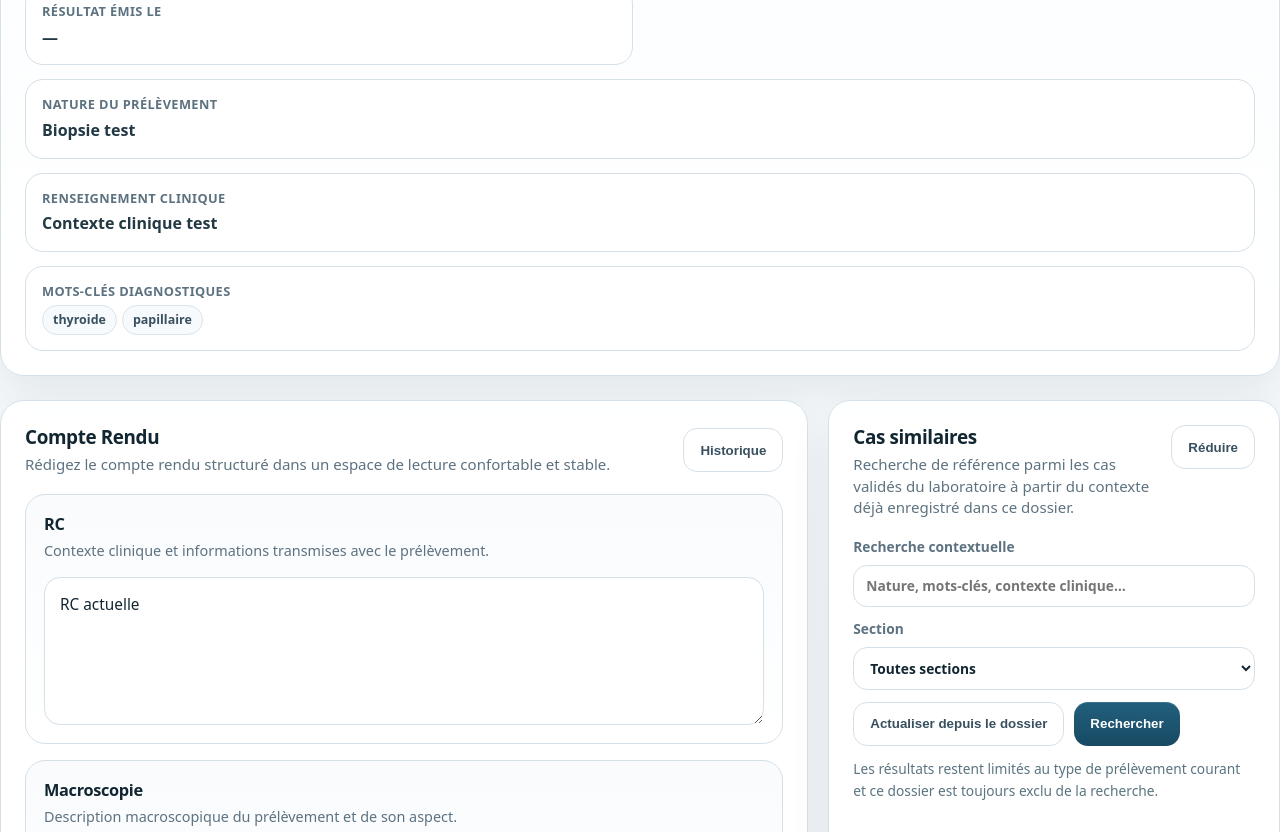
Test: ExamDetailPage report history › restores selected revision into live report editor and shows success feedback
(page scrolled)
Click the button "Historique".
click(733, 450)  # box [683,428,783,472]
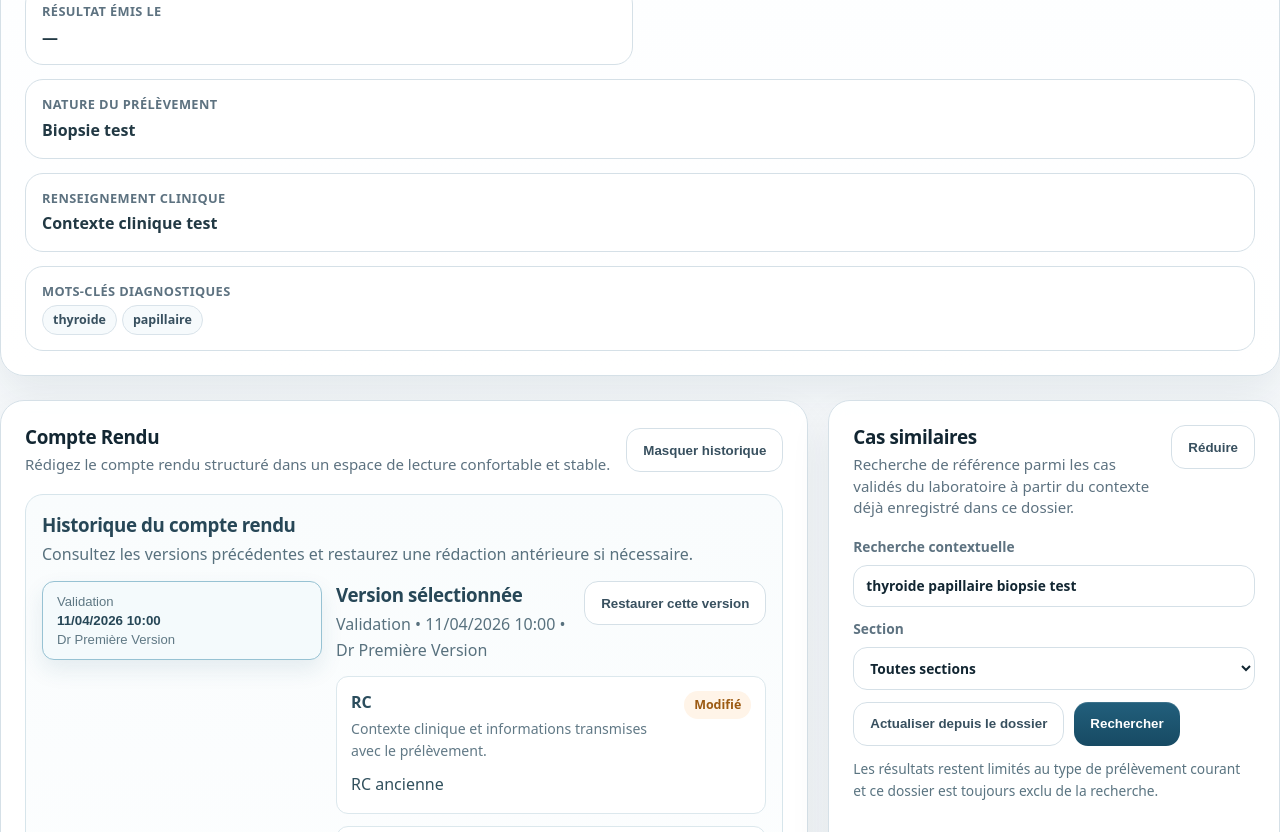
Click the button "Restaurer cette version".
click(675, 603)  # box [584,581,766,625]
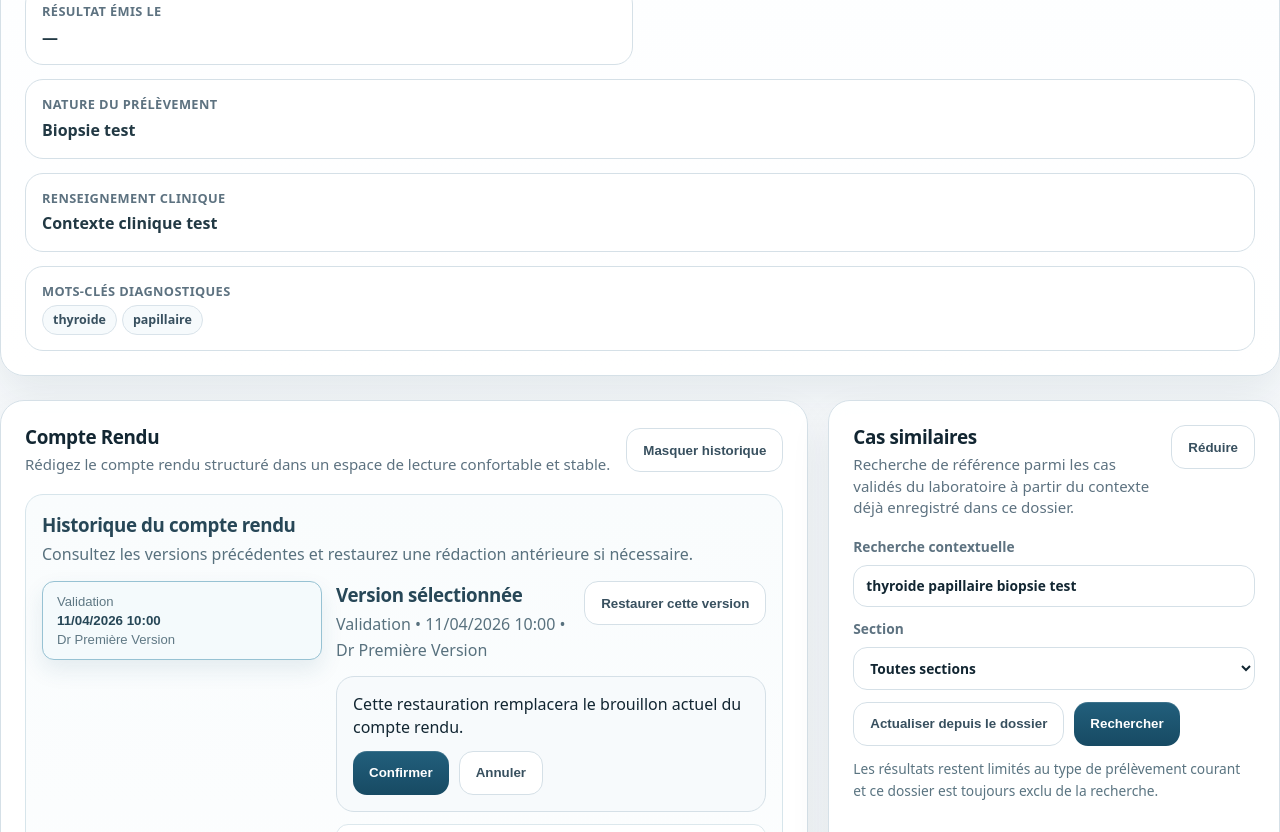
Click the button "Confirmer".
click(401, 773)  # box [353,751,449,795]
(page scrolled)
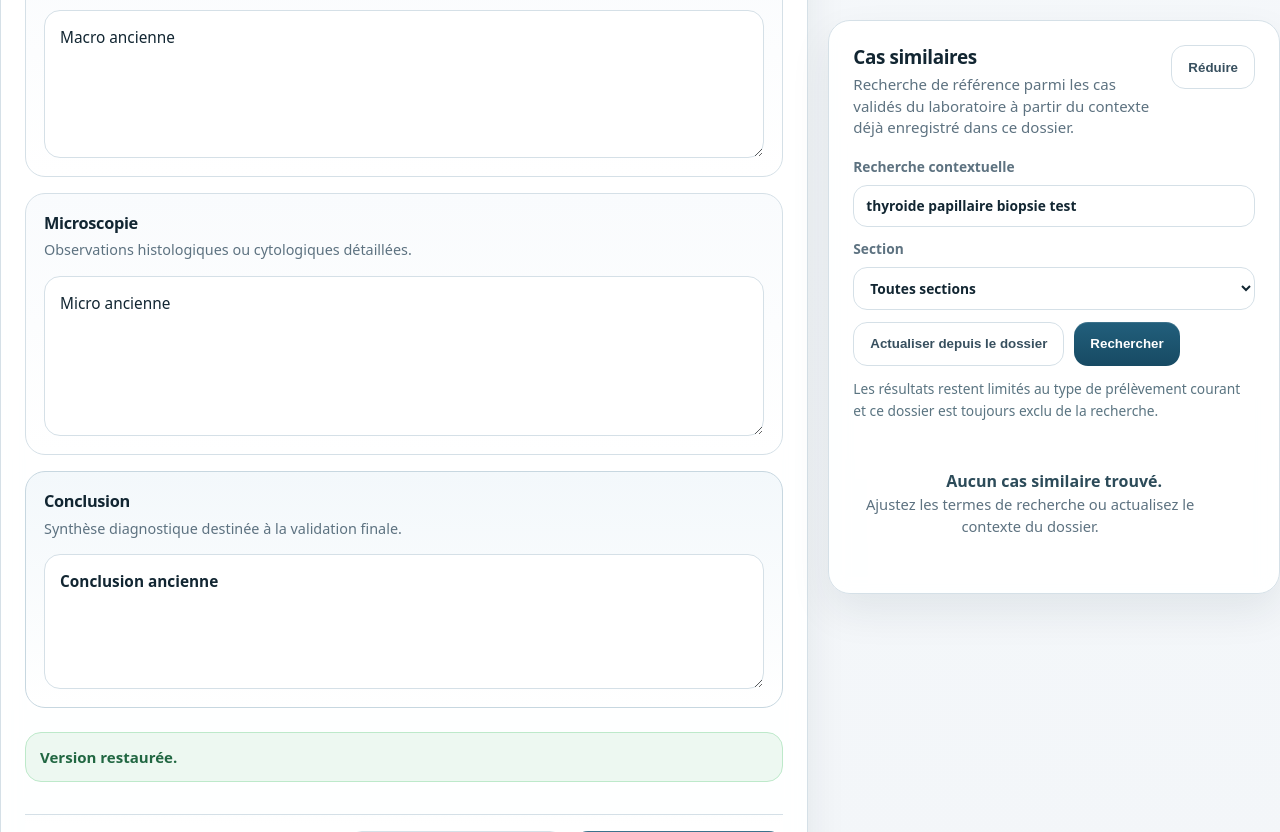
Expected: the text "Version restaurée." is shown, [25,732,783,782]
Expected: the 3rd text box named "Conclusion" holds "Conclusion ancienne", [44,554,764,688]
